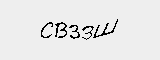В: (54, 18, 67, 41)
З: (80, 23, 94, 43), (68, 21, 80, 41)
С: (38, 17, 54, 41)
Ш: (91, 19, 117, 39)
